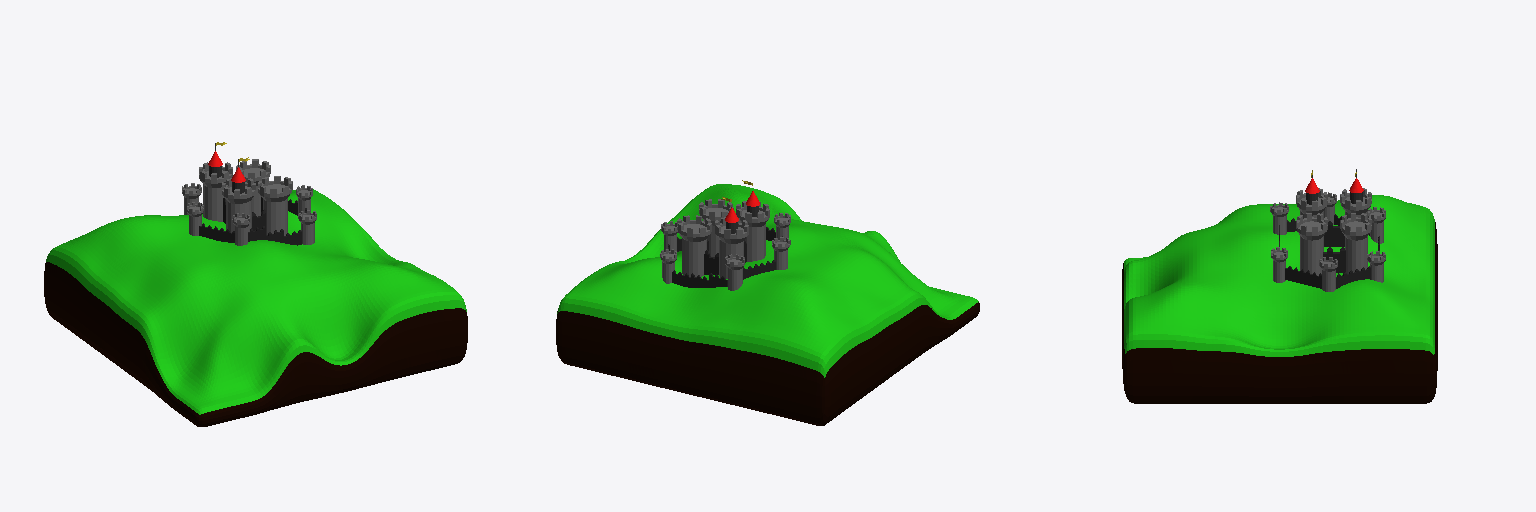
The model's file is Castle.obj.
3 renders of one model, left to right at view 1: azimuth 30°, elevation 25°; view 2: azimuth 150°, elevation 25°; view 3: azimuth 270°, elevation 25°, orthographic.
Visible parts, largest first — view 1: Ground, Tower.008, Tower.006, Tower.009, Tower.007; view 2: Ground, Tower.007, Tower.009, Tower.006, Tower.008, Tower.003; view 3: Ground, Tower.008, Tower.007, Tower.009, Tower.006.
Boxes of the visible parts, box(x1,y1,x2,y2) form: Ground: box(44, 189, 467, 426); Tower.008: box(258, 176, 292, 235); Tower.006: box(199, 162, 232, 221); Tower.009: box(222, 178, 255, 232); Tower.007: box(236, 159, 270, 216); Ground: box(556, 184, 979, 425); Tower.007: box(677, 215, 711, 276); Tower.009: box(736, 201, 769, 261); Tower.006: box(715, 217, 748, 278); Tower.008: box(699, 199, 733, 256); Tower.003: box(725, 254, 744, 290); Ground: box(1122, 195, 1437, 403); Tower.008: box(1296, 213, 1327, 275); Tower.007: box(1340, 213, 1371, 273); Tower.009: box(1296, 188, 1327, 219); Tower.006: box(1340, 187, 1371, 219).
Bounding box in the file's own units: 49.8 × 29.82 × 49.8.